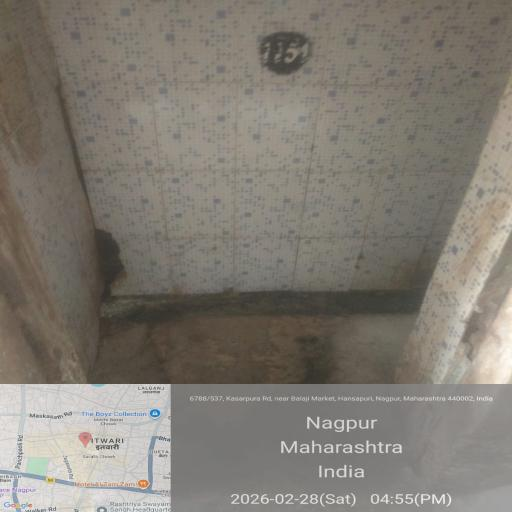clean_floor: (90, 11, 452, 263)
dirty_floor: (78, 279, 425, 386)
partial_dirty_floor: (0, 20, 68, 368), (420, 180, 512, 368)
